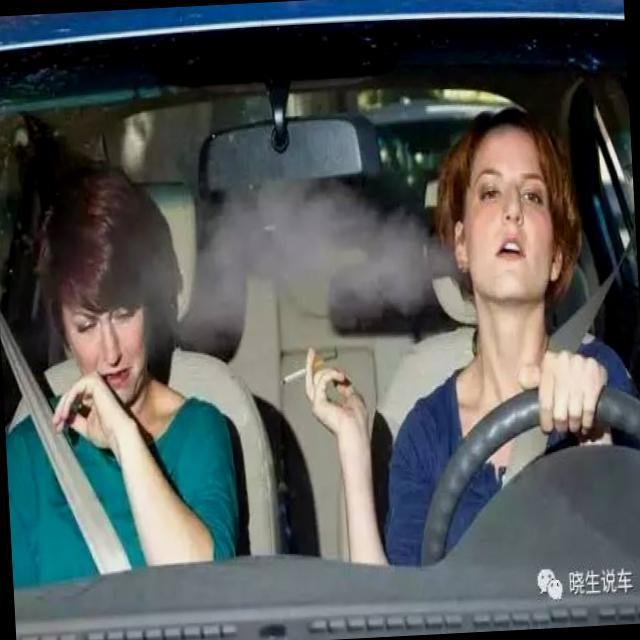cigarette: (278, 358, 326, 388)
